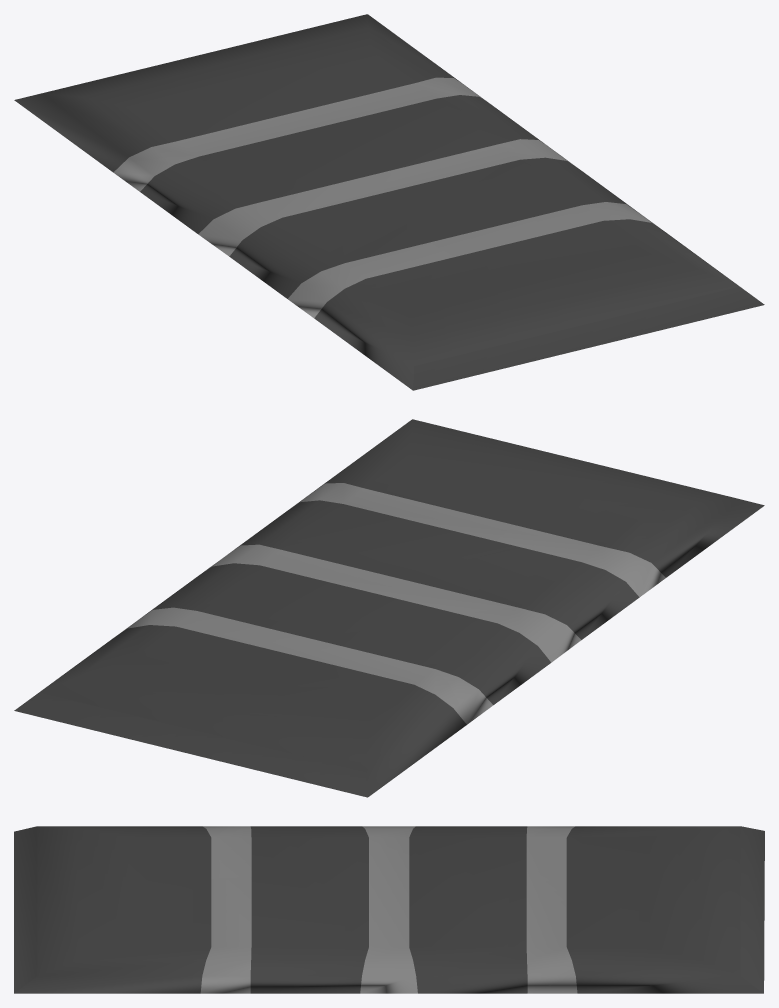
File: BeachTowelDark.glb
3 renders of one model, top to bottom at view 1: azimuth 30°, elevation 25°; view 2: azimuth 150°, elevation 25°; view 3: azimuth 270°, elevation 25°, orthographic. The views are drawn at different scales.
Visible parts, largest first — view 1: BeachTowelDark; view 2: BeachTowelDark; view 3: BeachTowelDark.
Boxes of the visible parts, <box> form: BeachTowelDark: <box>14,14,764,390</box>; BeachTowelDark: <box>14,419,764,797</box>; BeachTowelDark: <box>14,826,764,993</box>.
Size of the model in its own units: 1.43 by 0.0831 by 2.79.
1 material, 1 textured.
